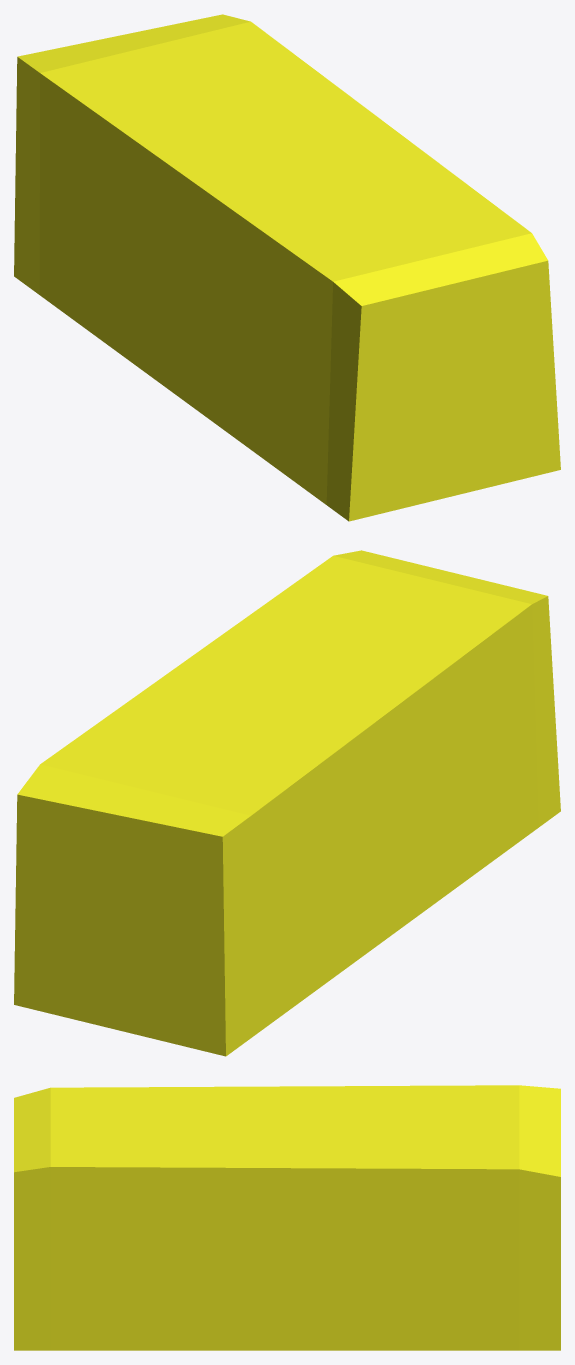
The model's file is butter.fbx.
3 renders of one model, top to bottom at view 1: azimuth 30°, elevation 25°; view 2: azimuth 150°, elevation 25°; view 3: azimuth 270°, elevation 25°, orthographic. The views are drawn at different scales.
Visible parts, largest first — view 1: Cube; view 2: Cube; view 3: Cube.
Part boxes in pixels (x1=…): Cube: x1=14, y1=14, x2=560, y2=521; Cube: x1=14, y1=550, x2=560, y2=1056; Cube: x1=14, y1=1085, x2=560, y2=1350.
Size of the model in its own units: 200 by 200 by 547.
